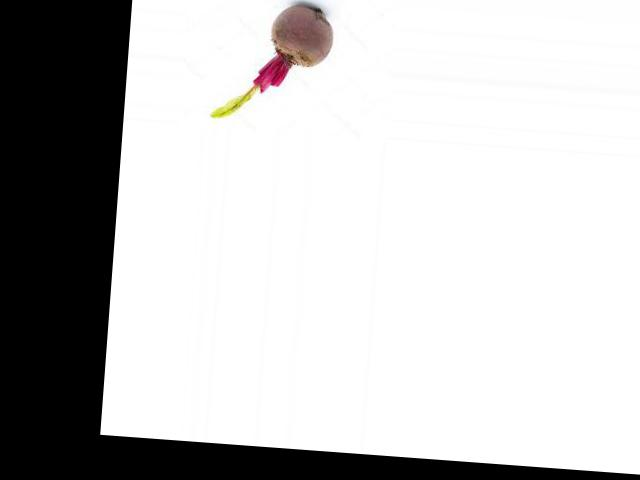beet: (212, 0, 335, 126)
